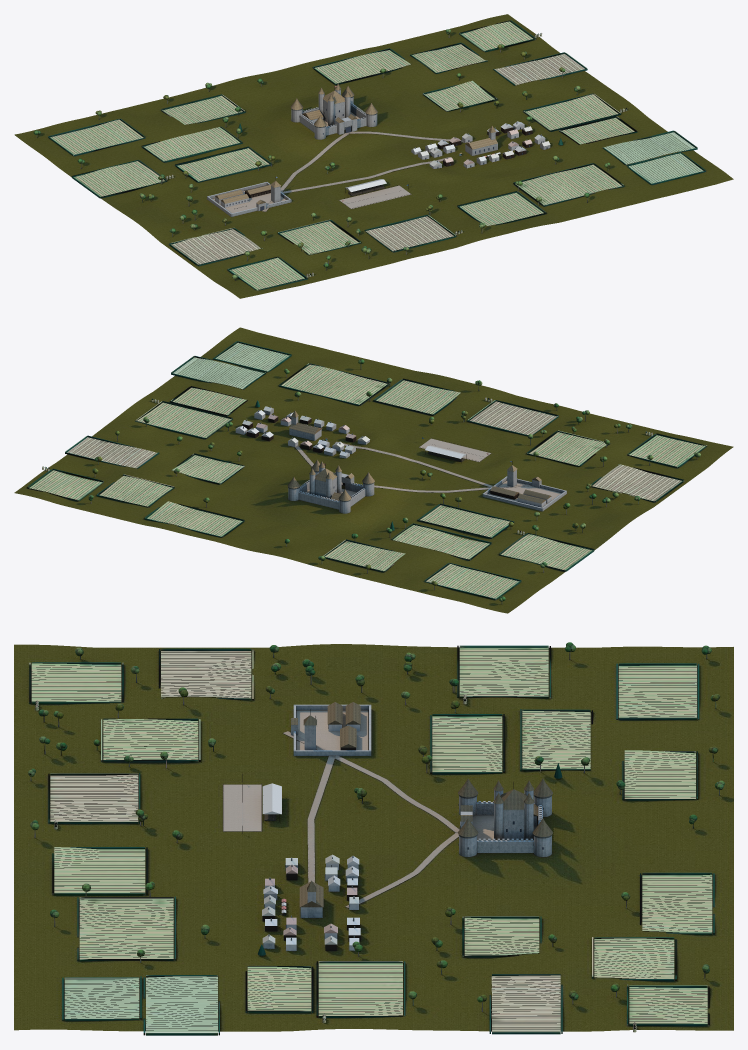
The model's file is fief5.glb.
3 renders of one model, top to bottom at view 1: azimuth 30°, elevation 25°; view 2: azimuth 150°, elevation 25°; view 3: azimuth 270°, elevation 25°, orthographic. The views are drawn at different scales.
Parts seen in each view (by area): view 1: site_terrain, props_fields, props_castle, props_village, props_trees, props_order, props_extra, props_roads; view 2: site_terrain, props_fields, props_castle, props_village, props_trees, props_order, props_roads, props_extra; view 3: site_terrain, props_fields, props_castle, props_trees, props_village, props_order, props_extra, props_roads.
Part boxes in pixels (x1,y1,x2,y2): site_terrain: [14, 14, 733, 298]; props_fields: [48, 20, 705, 290]; props_castle: [290, 83, 377, 139]; props_village: [411, 121, 550, 168]; props_trees: [33, 29, 610, 280]; props_order: [207, 176, 291, 216]; props_extra: [339, 179, 411, 208]; props_roads: [262, 131, 470, 211]; site_terrain: [14, 327, 733, 613]; props_fields: [27, 341, 706, 600]; props_castle: [287, 459, 374, 513]; props_village: [235, 406, 369, 458]; props_trees: [88, 359, 700, 603]; props_order: [482, 461, 566, 511]; props_roads: [295, 441, 531, 492]; props_extra: [419, 437, 490, 462]; site_terrain: [14, 644, 733, 1031]; props_fields: [29, 645, 714, 1035]; props_castle: [458, 778, 552, 857]; props_trees: [28, 642, 724, 1011]; props_village: [262, 854, 360, 950]; props_order: [291, 702, 371, 755]; props_extra: [223, 774, 281, 833]; props_roads: [283, 731, 459, 908].
Size of the model in its own units: 663 by 52 by 520.
Materials: 8 (8 with a texture image).
